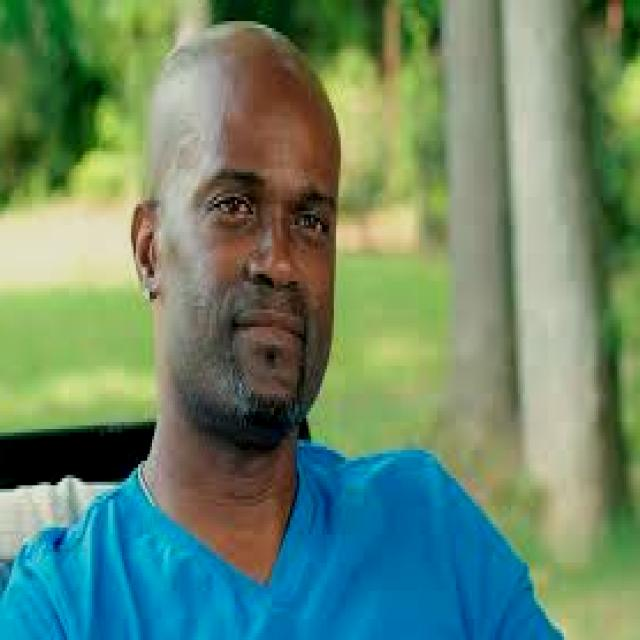normal_face: (150, 53, 343, 439)
